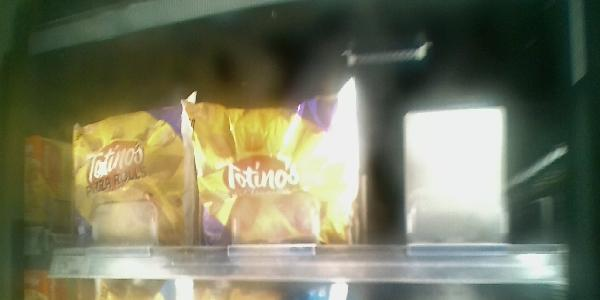icecream: (189, 81, 357, 254), (58, 93, 201, 250)
